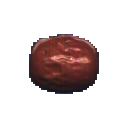gd: (17, 22, 128, 118)
